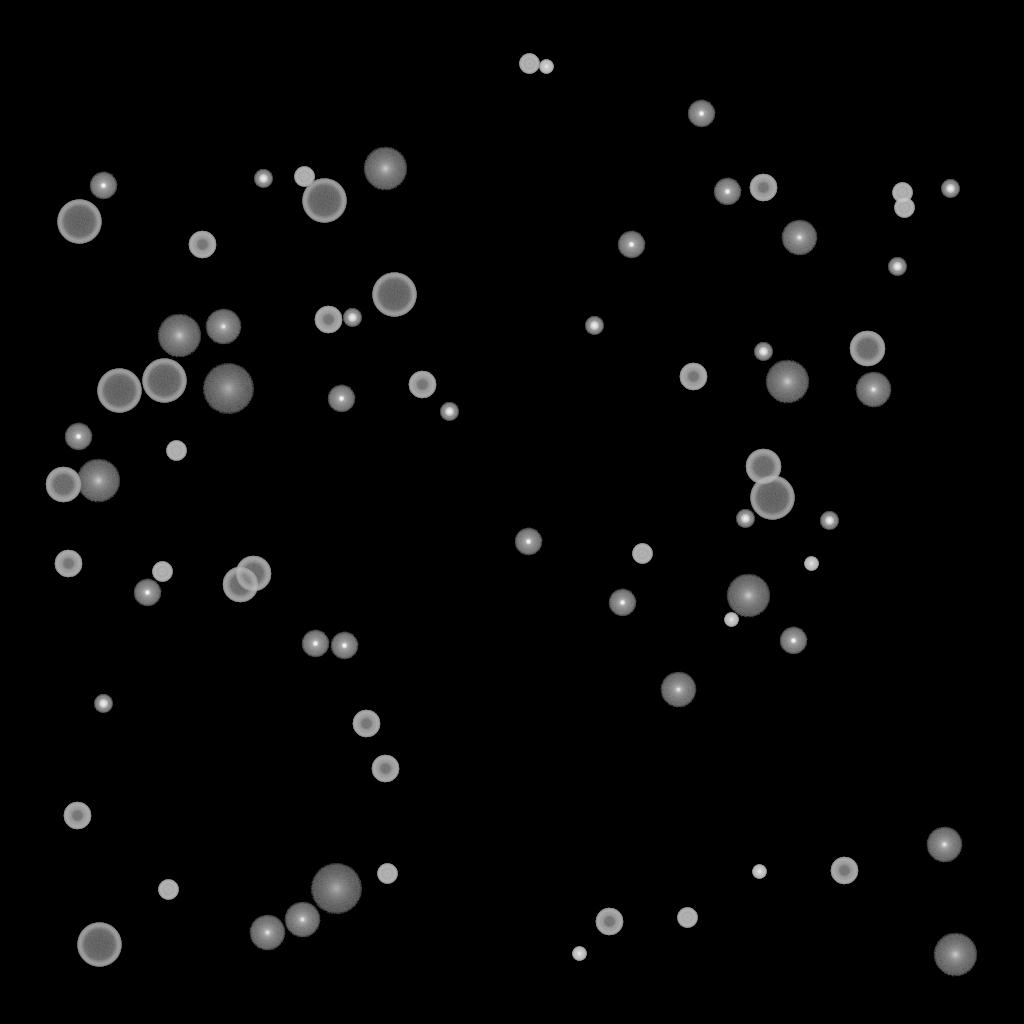depth:-10: (617, 231, 645, 259), (89, 172, 117, 200), (713, 178, 741, 206), (301, 630, 329, 658), (64, 423, 92, 451), (330, 632, 358, 660), (327, 385, 355, 413), (608, 589, 636, 617), (687, 100, 715, 128), (514, 528, 542, 556), (779, 627, 807, 655), (133, 579, 161, 607)
depth:-20: (254, 170, 272, 188), (736, 510, 754, 528), (343, 309, 361, 327), (941, 180, 959, 198), (754, 343, 772, 361), (585, 317, 603, 335), (888, 258, 906, 276), (94, 695, 112, 713), (820, 512, 838, 530), (440, 403, 458, 421)
depth:-30: (752, 865, 766, 879), (572, 947, 586, 961), (539, 60, 553, 74), (804, 557, 818, 571), (724, 613, 738, 627)
depth:-40: (632, 544, 652, 564), (892, 183, 912, 203), (158, 880, 178, 900), (677, 908, 697, 928), (152, 562, 172, 582), (894, 198, 914, 218), (294, 167, 314, 187), (377, 864, 397, 884), (519, 54, 539, 74), (166, 441, 186, 461)
depth:-50: (188, 231, 216, 259), (830, 857, 858, 885), (352, 710, 380, 738), (63, 802, 91, 830), (371, 755, 399, 783), (408, 371, 436, 399), (679, 363, 707, 391), (314, 306, 342, 334), (595, 908, 623, 936), (749, 174, 777, 202), (54, 550, 82, 578)
depth:-60: (849, 331, 885, 367), (745, 449, 781, 485), (222, 567, 258, 603), (45, 467, 81, 503), (235, 556, 271, 592)
depth:-70: (372, 273, 416, 317), (57, 200, 101, 244), (97, 369, 141, 413), (77, 923, 121, 967), (750, 476, 794, 520), (302, 179, 346, 223), (142, 359, 186, 403)
depth:0: (926, 827, 962, 863), (284, 902, 320, 938), (660, 672, 696, 708), (249, 915, 285, 951), (205, 309, 241, 345), (781, 220, 817, 256), (855, 372, 891, 408)
depth:10: (363, 147, 407, 191), (765, 360, 809, 404), (76, 459, 120, 503), (726, 574, 770, 618), (933, 933, 977, 977), (157, 314, 201, 358)
depth:20: (202, 364, 254, 414), (310, 864, 362, 914)
